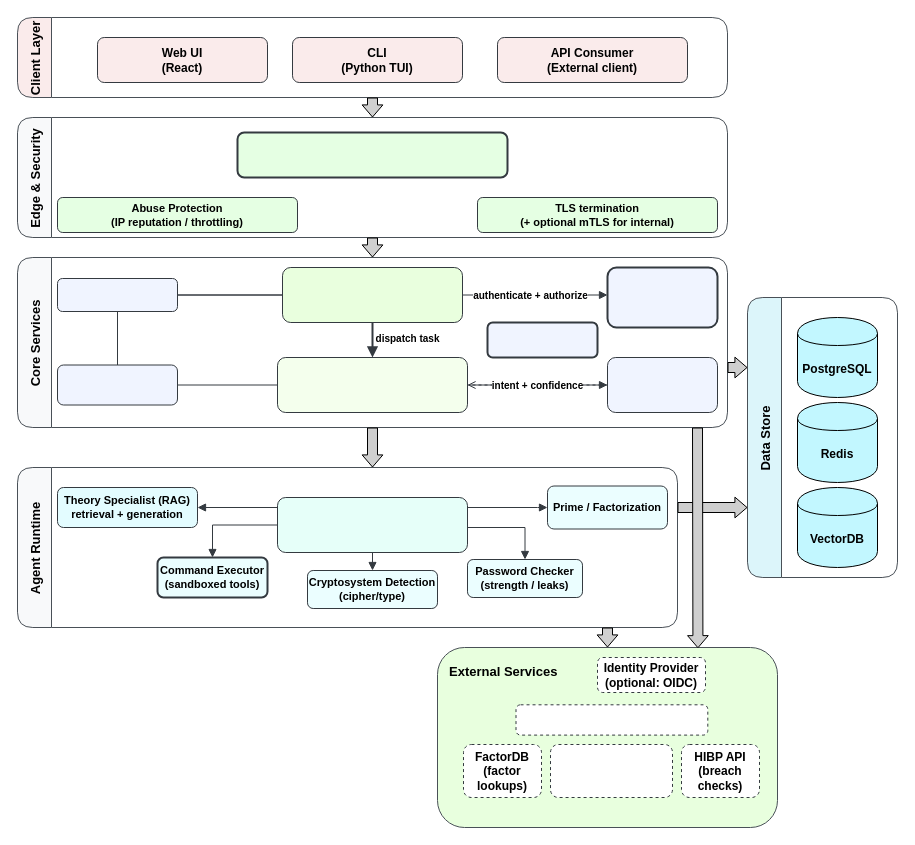
This 915x845 diagram has some shape labels left out. Each missing label, with the centre of its shape:
Agent Pool (containerized workers): pixel 372 524
Audit Trail (immutable events): pixel 117 295
Auth & Policy JWT/OIDC + MFA RBAC + API Keys: pixel 662 297
Backend API (REST): pixel 372 294
Decision Engine (Intent + Confidence): pixel 662 384
Edge Gateway WAF + Reverse Proxy Rate limiting / Bot filtering: pixel 372 154
LLM Providers (Gemini / Ollama / etc.): pixel 611 771
Notifications (email / webhook): pixel 611 719
Observability Logs / Metrics / Traces: pixel 117 384
Orchestrator: pixel 372 384
Secrets & Config (Vault / KMS / env): pixel 542 339
